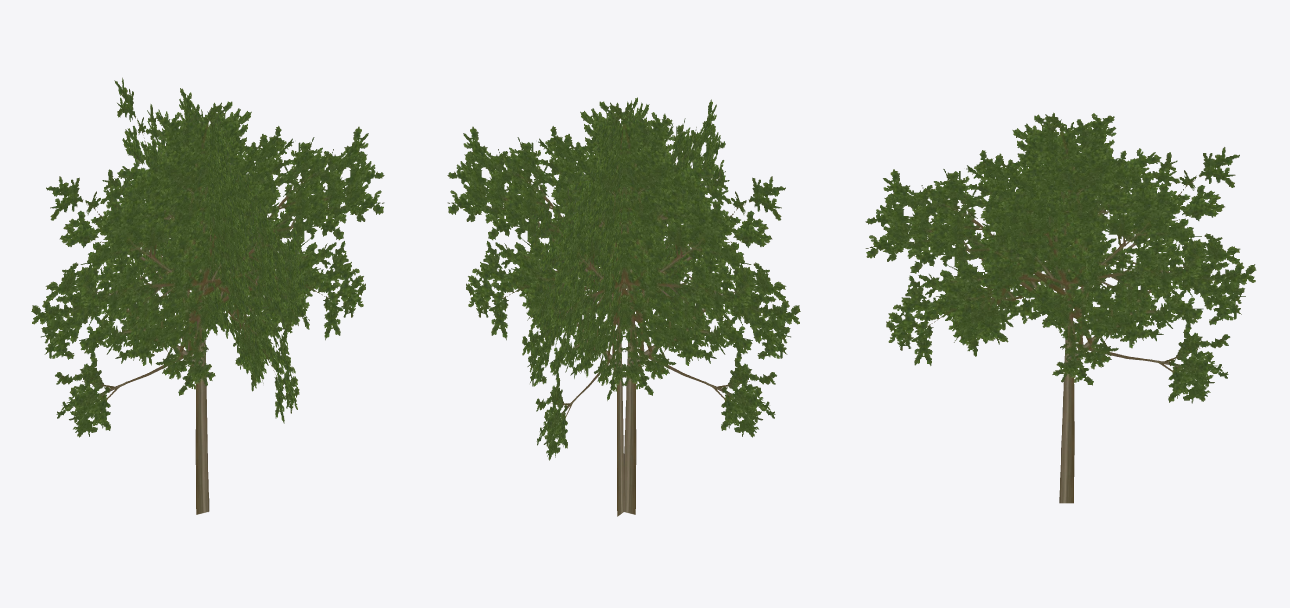
The model's file is oak_medium_far.glb.
The picture shows the model from 3 angles, left to right: view 1: azimuth 30°, elevation 25°; view 2: azimuth 150°, elevation 25°; view 3: azimuth 270°, elevation 25°; orthographic projection. The views are drawn at different scales.
Visible parts, largest first — view 1: impostor; view 2: impostor; view 3: impostor.
Part boxes in pixels (x1=…): impostor: x1=31, y1=77, x2=384, y2=514; impostor: x1=447, y1=97, x2=800, y2=516; impostor: x1=865, y1=112, x2=1256, y2=503.
Size of the model in its own units: 8.78 by 9 by 8.78.
1 material, 1 textured.
